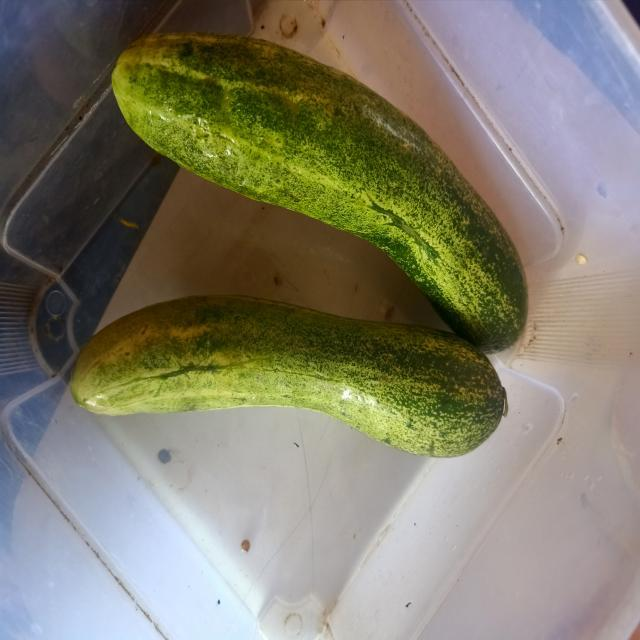Cucumber: (111, 32, 528, 352), (69, 295, 509, 457)
